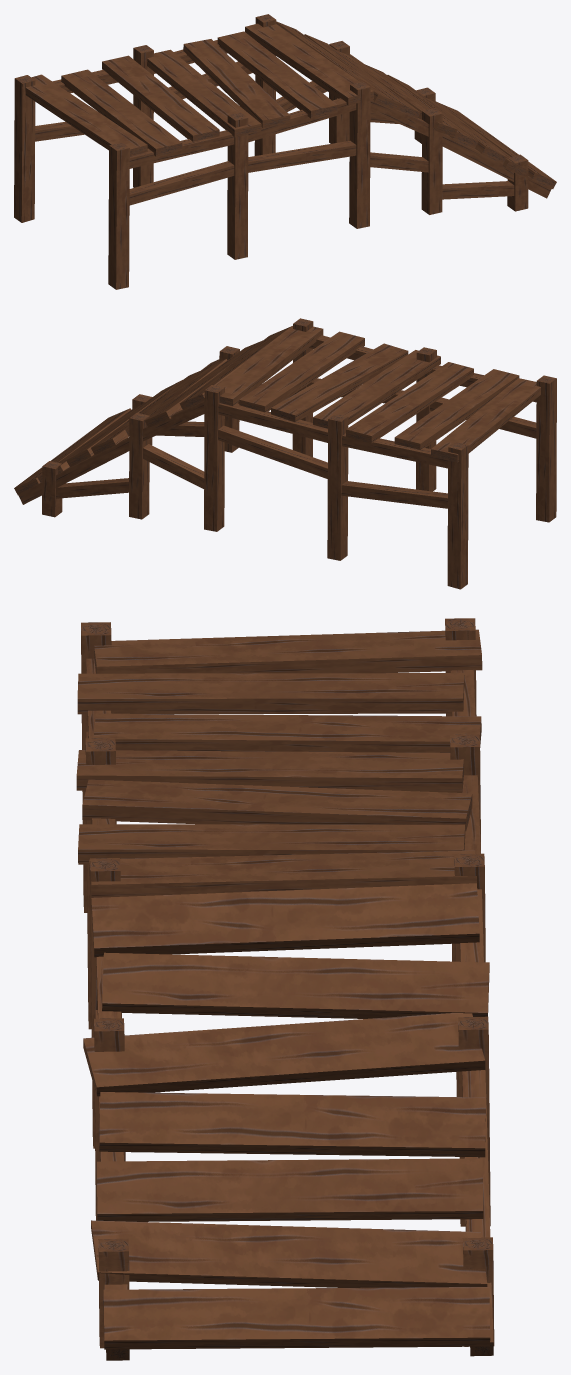
Rendered from bridge.fbx.
3 renders of one model, top to bottom at view 1: azimuth 30°, elevation 25°; view 2: azimuth 150°, elevation 25°; view 3: azimuth 270°, elevation 25°, orthographic. The views are drawn at different scales.
Parts seen in each view (by area): view 1: stairs; view 2: stairs; view 3: stairs.
Part boxes in pixels (x1,y1,x2,y2): stairs: [14, 14, 556, 289]; stairs: [14, 318, 556, 589]; stairs: [76, 618, 494, 1360].
Size of the model in its own units: 458 by 160 by 186.
